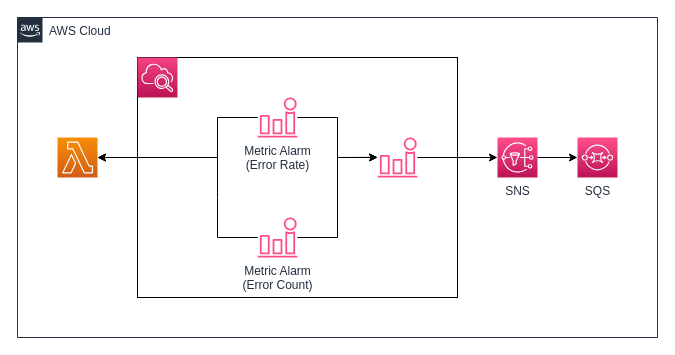
This 675x355 diagram has some shape labels left out. The centre of each missing label's shape, as x and y in pixels:
CloudWatch: the point at 157,77
Composite Alarm (Error Rate + Error Count): the point at 397,157
Lambda: the point at 77,157
